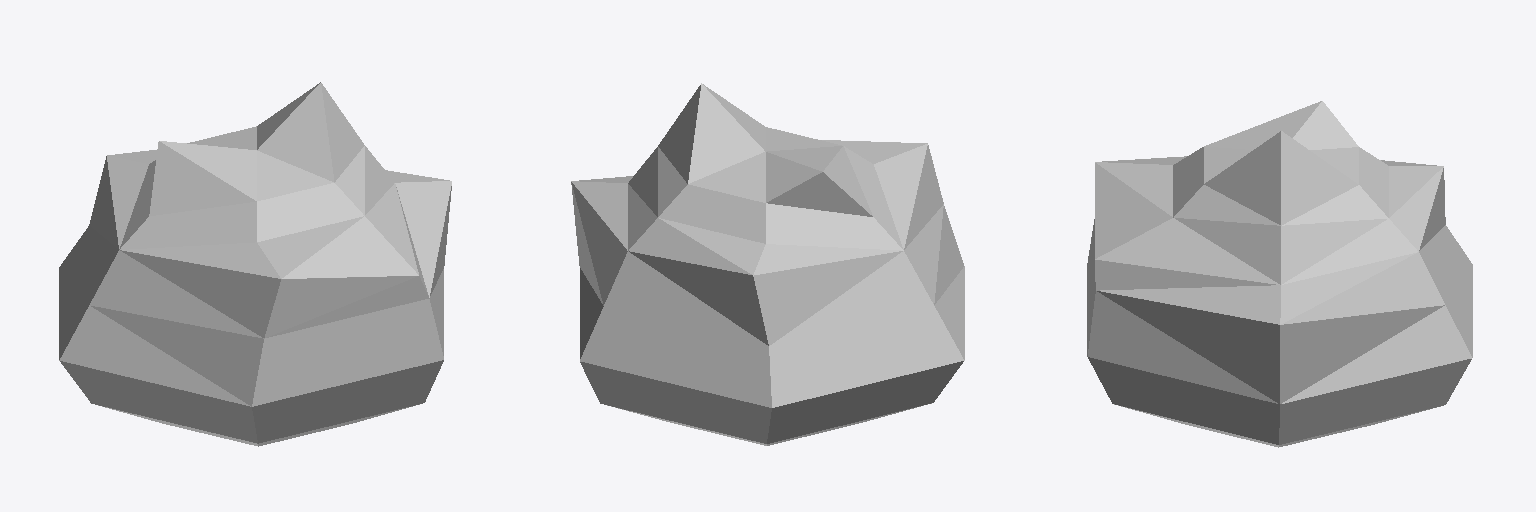
The model's file is HoneyTowerProjectile1.obj.
3 renders of one model, left to right at view 1: azimuth 30°, elevation 25°; view 2: azimuth 150°, elevation 25°; view 3: azimuth 270°, elevation 25°, orthographic.
Visible parts, largest first — view 1: HoneyProjectile; view 2: HoneyProjectile; view 3: HoneyProjectile.
Boxes of the visible parts, <box> form: HoneyProjectile: <box>59,82,451,446</box>; HoneyProjectile: <box>571,83,964,445</box>; HoneyProjectile: <box>1087,101,1472,447</box>.
Size of the model in its own units: 0.8606 by 0.6581 by 0.7297.